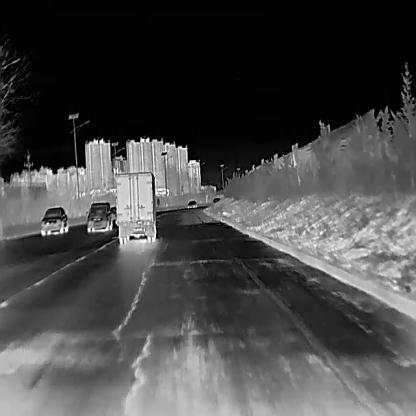car: (114, 170, 159, 245), (40, 206, 68, 234), (86, 202, 113, 231), (186, 199, 196, 207), (212, 197, 221, 203)
